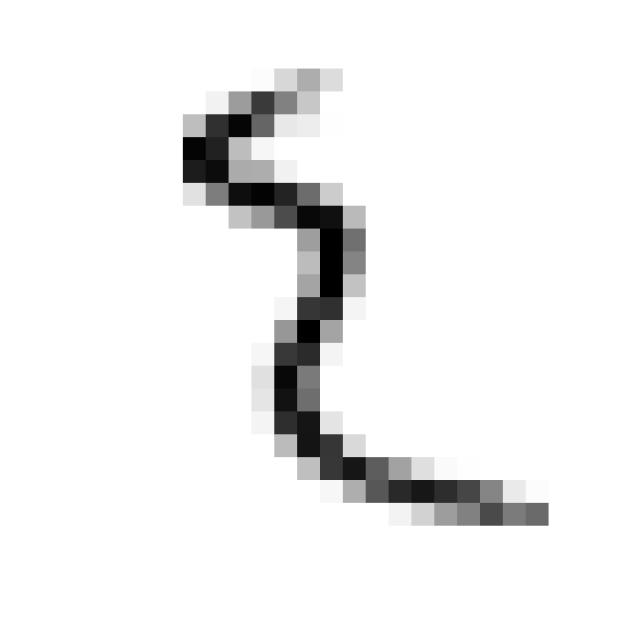4 -four-: (169, 50, 566, 552)
